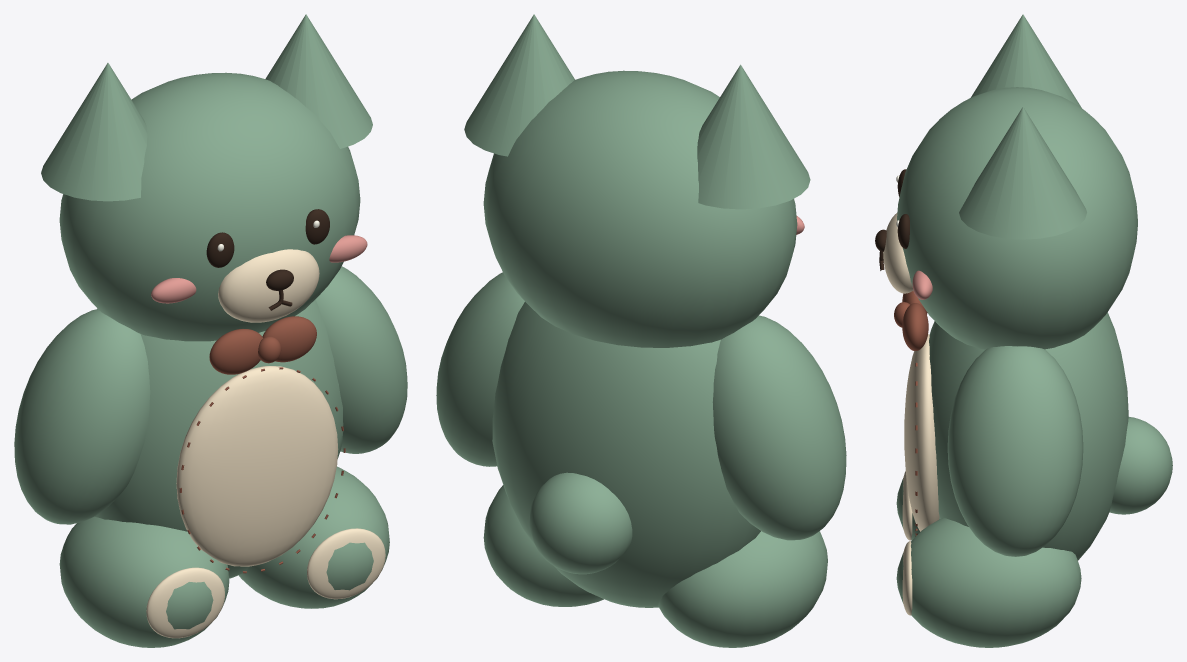
Rendered from cat.glb.
3 views of the same model, side by side, from view 1: azimuth 30°, elevation 25°; view 2: azimuth 150°, elevation 25°; view 3: azimuth 270°, elevation 25° (orthographic). The views are drawn at different scales.
Parts seen in each view (by area): view 1: head, arm (×2), belly_patch, foot (×2), cat, pear_body, paw (×2), muzzle, bow_left, cheek (×2), bow_right, eye (×2); view 2: head, pear_body, arm (×2), foot (×2), cat, tail; view 3: head, arm, foot, pear_body, cat, belly_patch, tail, muzzle, paw (×2), bow_right, cheek.
Part boxes in pixels (left/top/right/bottom): head: left=59, top=72, right=360, bottom=341; arm (×2): left=14, top=266, right=407, bottom=524; belly_patch: left=176, top=366, right=338, bottom=566; foot (×2): left=59, top=466, right=389, bottom=647; cat: left=41, top=14, right=372, bottom=573; pear_body: left=95, top=299, right=343, bottom=578; paw (×2): left=146, top=528, right=385, bottom=638; muzzle: left=218, top=249, right=319, bottom=322; bow_left: left=209, top=329, right=263, bottom=374; cheek (×2): left=151, top=235, right=367, bottom=303; bow_right: left=262, top=316, right=316, bottom=362; eye (×2): left=206, top=209, right=329, bottom=267; head: left=483, top=70, right=797, bottom=347; pear_body: left=492, top=302, right=760, bottom=607; arm (×2): left=436, top=272, right=846, bottom=540; foot (×2): left=483, top=485, right=827, bottom=647; cat: left=464, top=14, right=810, bottom=209; tail: left=529, top=472, right=632, bottom=574; head: left=897, top=87, right=1137, bottom=349; arm: left=947, top=346, right=1083, bottom=556; foot: left=896, top=518, right=1081, bottom=647; pear_body: left=929, top=312, right=1128, bottom=560; cat: left=879, top=14, right=1086, bottom=536; belly_patch: left=904, top=334, right=939, bottom=531; tail: left=1109, top=417, right=1172, bottom=514; muzzle: left=883, top=213, right=912, bottom=293; paw (×2): left=902, top=471, right=912, bottom=615; bow_right: left=902, top=303, right=928, bottom=350; cheek: left=912, top=270, right=932, bottom=299.
Bounding box in the file's own units: 1.1 × 1.59 × 0.789.
